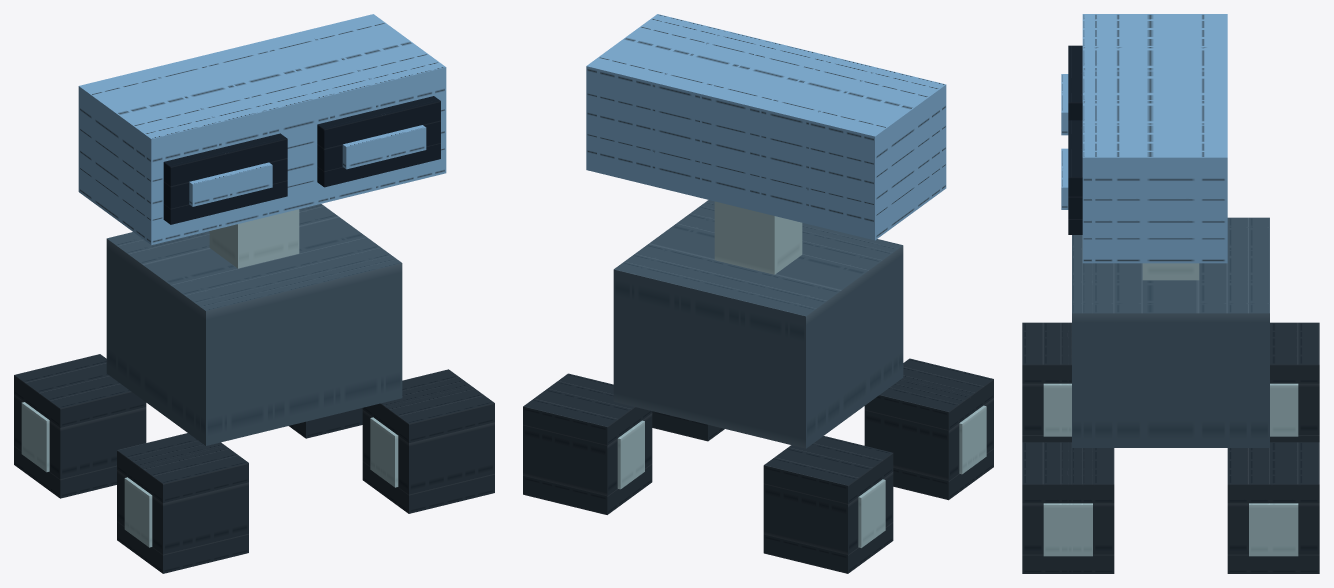
File: sc_robot_surveyor.obj
The picture shows the model from 3 angles, left to right: view 1: azimuth 30°, elevation 25°; view 2: azimuth 150°, elevation 25°; view 3: azimuth 270°, elevation 25°; orthographic projection. The views are drawn at different scales.
Bounding box in the file's own units: 11 × 12.7 × 8.4.
Materials: 1 (1 with a texture image).
